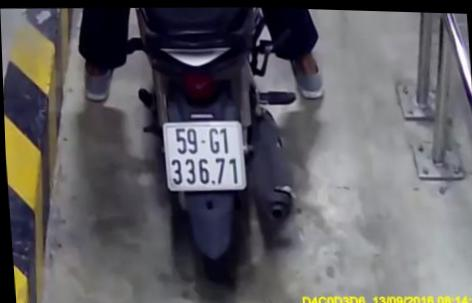LP: (159, 117, 247, 193)
